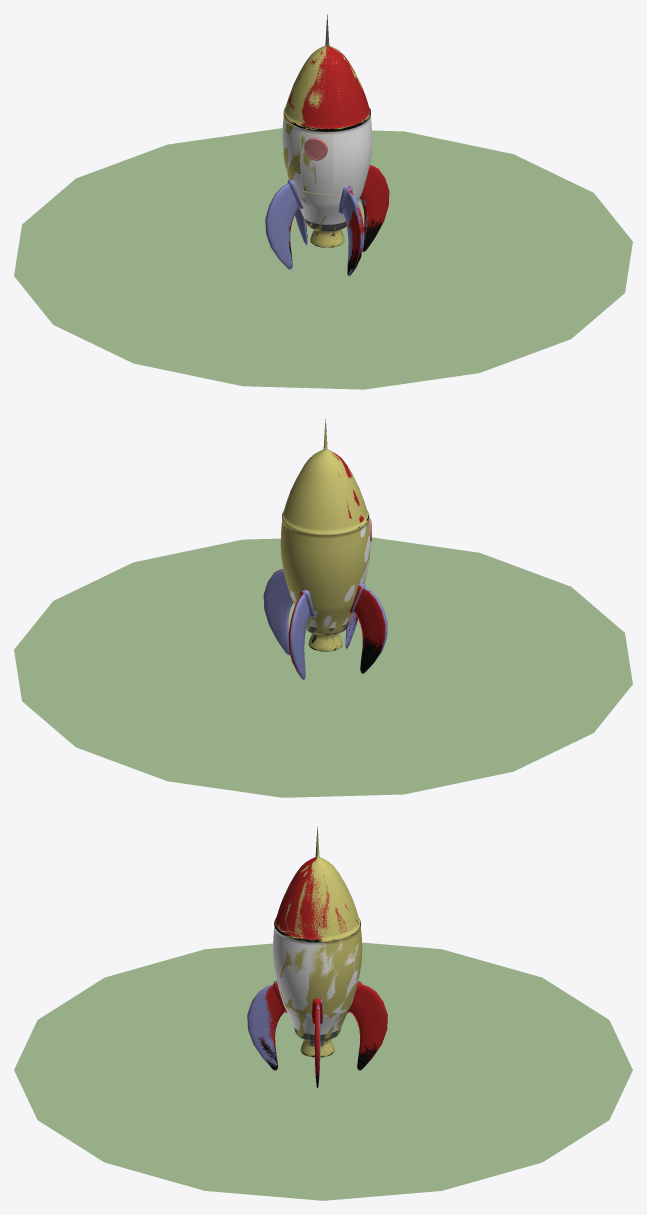
Rendered from Prop_covete.fbx.
3 views of the same model, one above another, from view 1: azimuth 30°, elevation 25°; view 2: azimuth 150°, elevation 25°; view 3: azimuth 270°, elevation 25° (orthographic).
Visible parts, largest first — view 1: PISO, VENTANA.001, CUERPO, ALERONES; view 2: PISO, CUERPO, ALERONES, VENTANA.001; view 3: PISO, VENTANA.001, CUERPO, ALERONES.
Boxes of the visible parts, x1,y1,x2,y2 form: PISO: [14, 128, 632, 389]; VENTANA.001: [282, 14, 389, 275]; CUERPO: [282, 21, 371, 247]; ALERONES: [265, 179, 367, 276]; PISO: [14, 537, 632, 797]; CUERPO: [280, 418, 370, 651]; ALERONES: [263, 569, 387, 680]; VENTANA.001: [268, 424, 385, 677]; PISO: [14, 942, 632, 1200]; VENTANA.001: [251, 826, 387, 1088]; CUERPO: [274, 828, 362, 1057]; ALERONES: [247, 981, 360, 1084].
Bounding box in the file's own units: 175 × 76.3 × 175.
